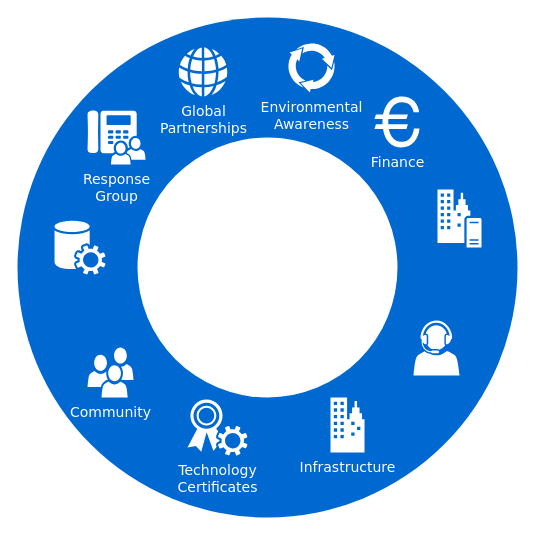
Image size: 534x534. Some labels were removed from this diagram. The centre of each missing label's shape, as x and y in pixels:
Central Management Service: the point at 79,247
Customer Service: the point at 436,347
Digital Development: the point at 459,218
Sapper App: the point at 267,267
